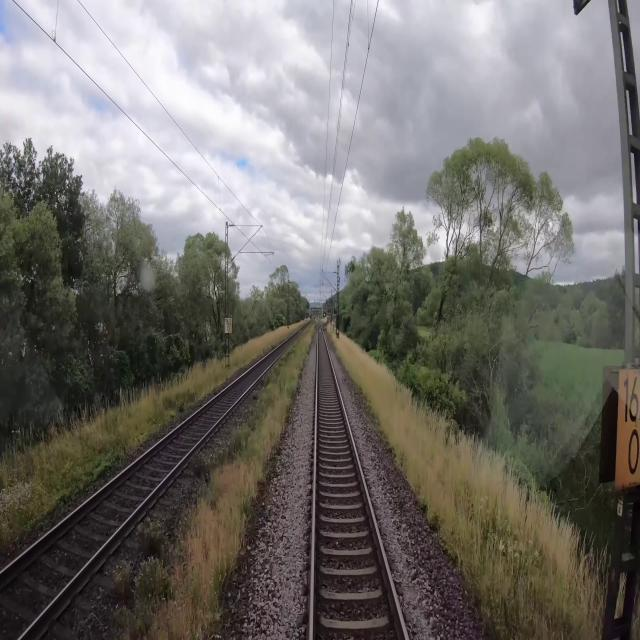Plant: (109, 319, 316, 639), (318, 319, 328, 329)
